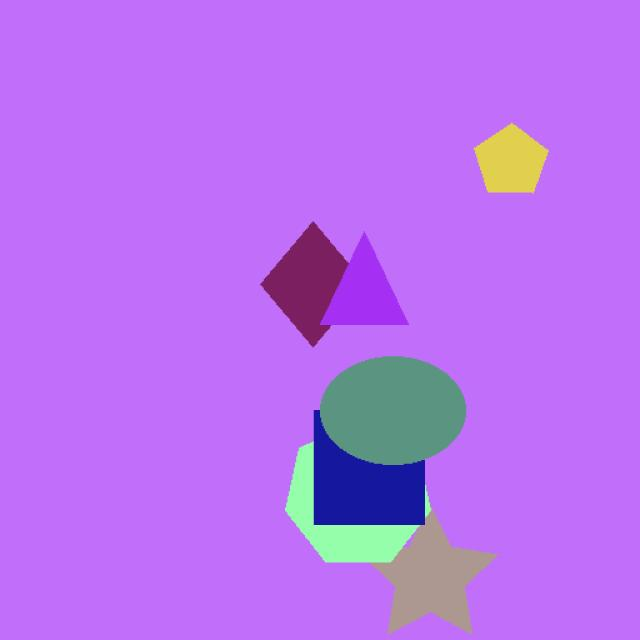Heptagon: (258, 435, 448, 582)
Kite: (243, 182, 368, 358)
Oval: (313, 338, 492, 473)
Pentagon: (454, 111, 586, 214)
Star: (355, 484, 529, 640)
Triangle: (322, 203, 449, 353)
square: (307, 397, 437, 550)
